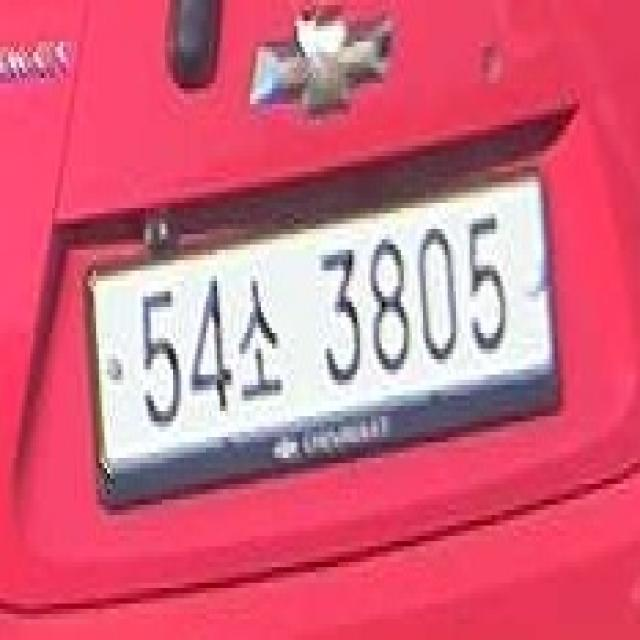0: (418, 187, 464, 375)
3: (316, 219, 362, 390)
4: (181, 250, 242, 432)
5: (464, 198, 514, 364), (143, 250, 178, 432)
8: (366, 198, 420, 385)
license_plate: (80, 156, 566, 520)
so: (234, 255, 288, 401)
